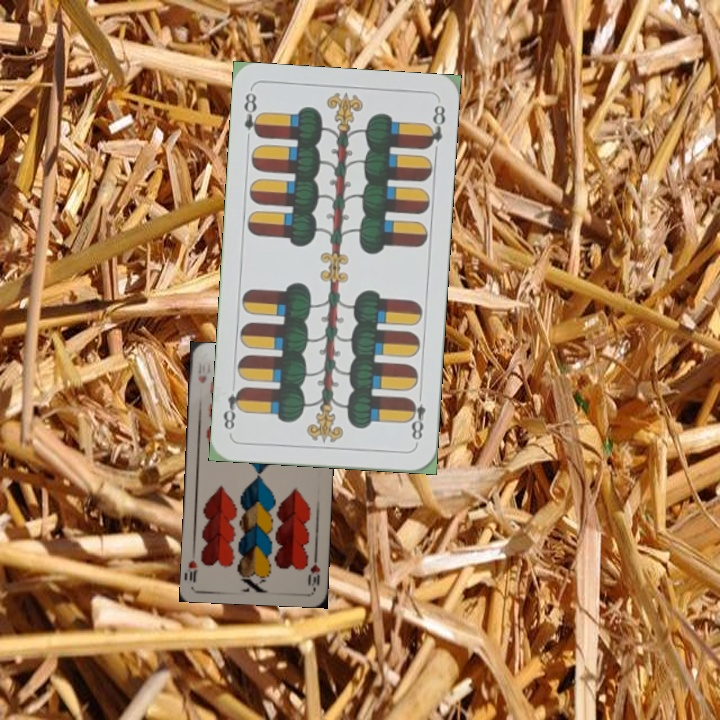E8: (404, 388, 428, 447), (239, 88, 264, 141)
H10: (304, 551, 322, 591), (194, 359, 209, 385)
